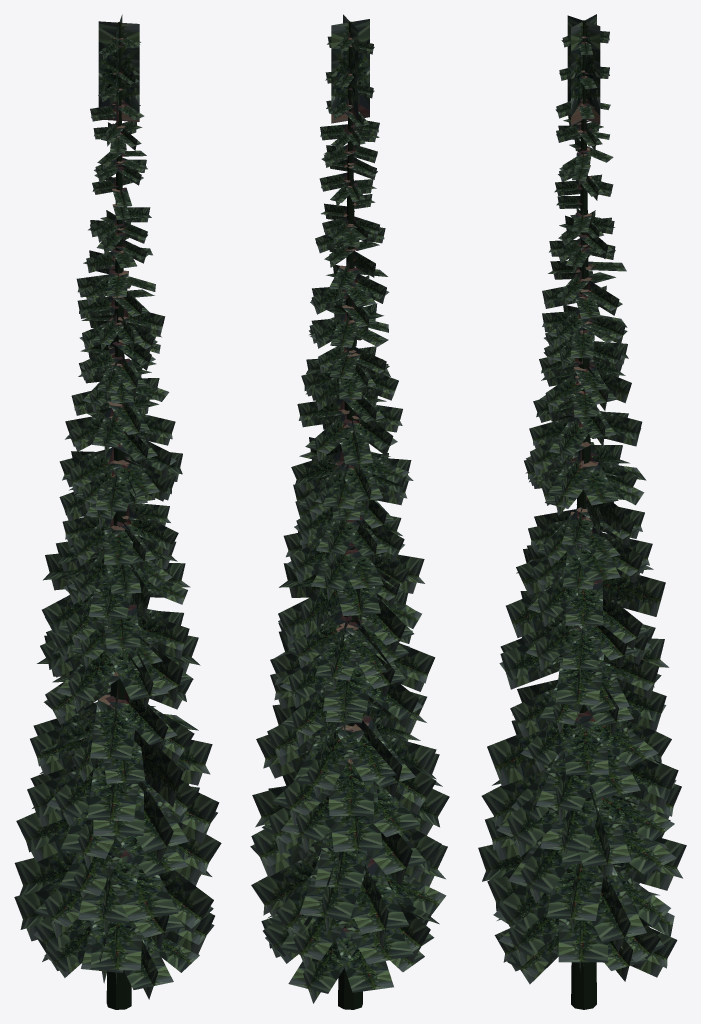
File: category_mesh_tree_2.glb
The picture shows the model from 3 angles, left to right: view 1: azimuth 30°, elevation 25°; view 2: azimuth 150°, elevation 25°; view 3: azimuth 270°, elevation 25°; orthographic projection.
Parts seen in each view (by area): view 1: category_mesh_tree_2; view 2: category_mesh_tree_2; view 3: category_mesh_tree_2.
Boxes of the visible parts, left/top/right/bottom form: category_mesh_tree_2: left=14, top=14, right=221, bottom=1009; category_mesh_tree_2: left=250, top=14, right=449, bottom=1009; category_mesh_tree_2: left=478, top=14, right=686, bottom=1009.
Size of the model in its own units: 3.65 by 19.87 by 3.82.
Materials: 1 (1 with a texture image).
